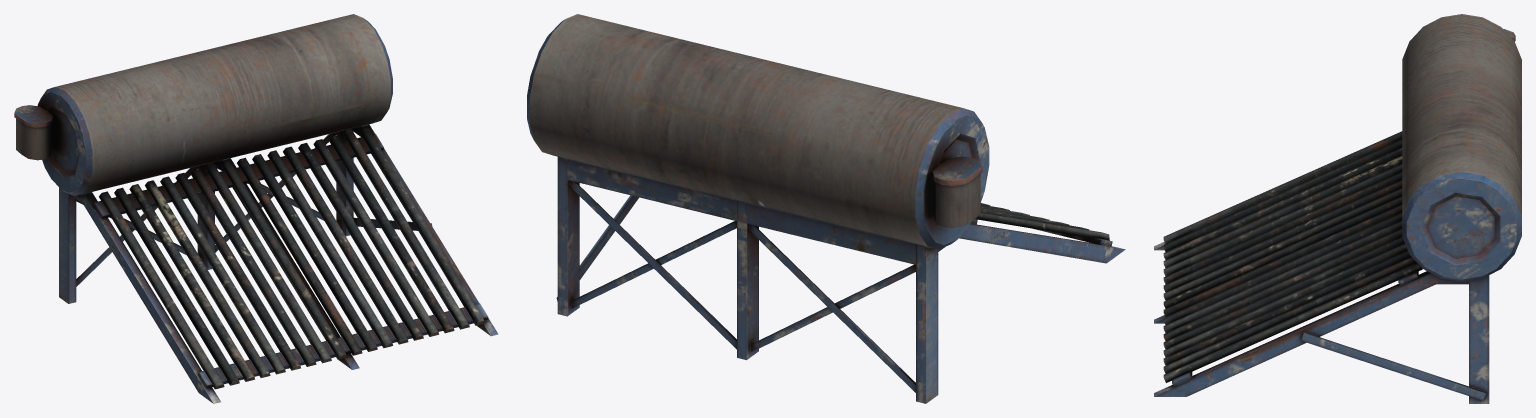
Rendered from SolarWaterHeater.FBX.
3 renders of one model, left to right at view 1: azimuth 30°, elevation 25°; view 2: azimuth 150°, elevation 25°; view 3: azimuth 270°, elevation 25°, orthographic. The views are drawn at different scales.
Visible parts, largest first — view 1: SolarWaterHeater; view 2: SolarWaterHeater; view 3: SolarWaterHeater.
Boxes of the visible parts, <box> form: SolarWaterHeater: <box>14,14,498,403</box>; SolarWaterHeater: <box>527,14,1125,403</box>; SolarWaterHeater: <box>1154,14,1521,403</box>.
Size of the model in its own units: 219 by 136 by 193.
